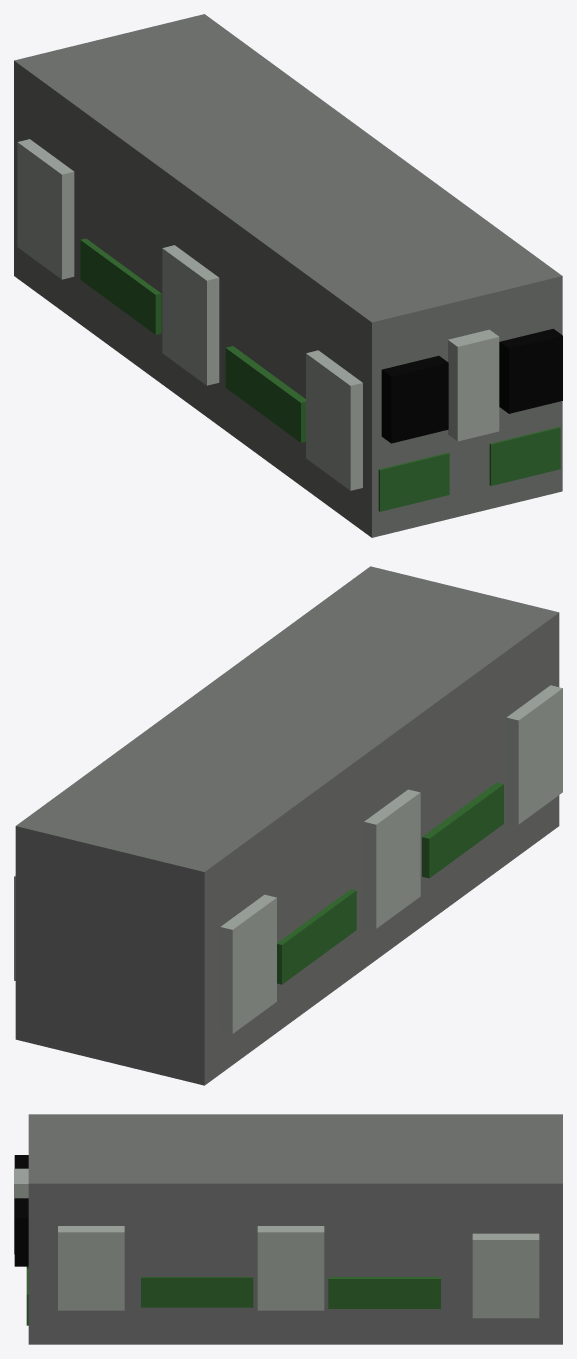
The model's file is ForthTrain.fbx.
3 views of the same model, one above another, from view 1: azimuth 30°, elevation 25°; view 2: azimuth 150°, elevation 25°; view 3: azimuth 270°, elevation 25° (orthographic). The views are drawn at different scales.
Parts seen in each view (by area): view 1: pCube7; view 2: pCube7; view 3: pCube7.
Boxes of the visible parts, x1,y1,x2,y2 form: pCube7: (14, 14, 562, 537); pCube7: (14, 566, 562, 1085); pCube7: (14, 1114, 562, 1344).
Bounding box in the file's own units: 2 × 1.87 × 5.79.
